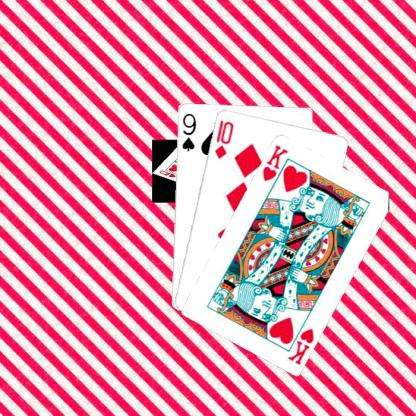10D: (212, 117, 235, 160)
9S: (179, 110, 197, 152)
KH: (285, 325, 315, 366), (260, 142, 289, 182)
